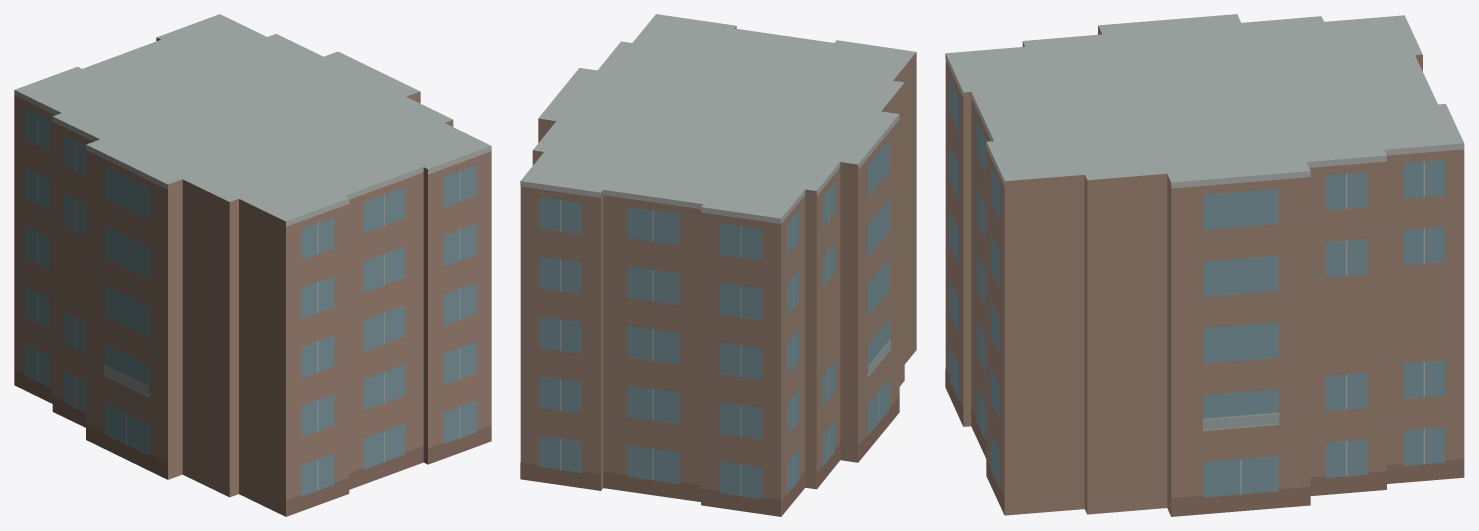
Rendered from survey-upis-32696798.glb.
The picture shows the model from 3 angles, left to right: view 1: azimuth 30°, elevation 25°; view 2: azimuth 150°, elevation 25°; view 3: azimuth 270°, elevation 25°; orthographic projection. The views are drawn at different scales.
Parts seen in each view (by area): view 1: survey-upis-32696798.tmp; view 2: survey-upis-32696798.tmp; view 3: survey-upis-32696798.tmp.
Boxes of the visible parts, bbox=[...] form: survey-upis-32696798.tmp: bbox=[14, 14, 491, 516]; survey-upis-32696798.tmp: bbox=[520, 14, 916, 516]; survey-upis-32696798.tmp: bbox=[945, 14, 1464, 516].
Bounding box in the file's own units: 14.72 × 13.6 × 19.14.
